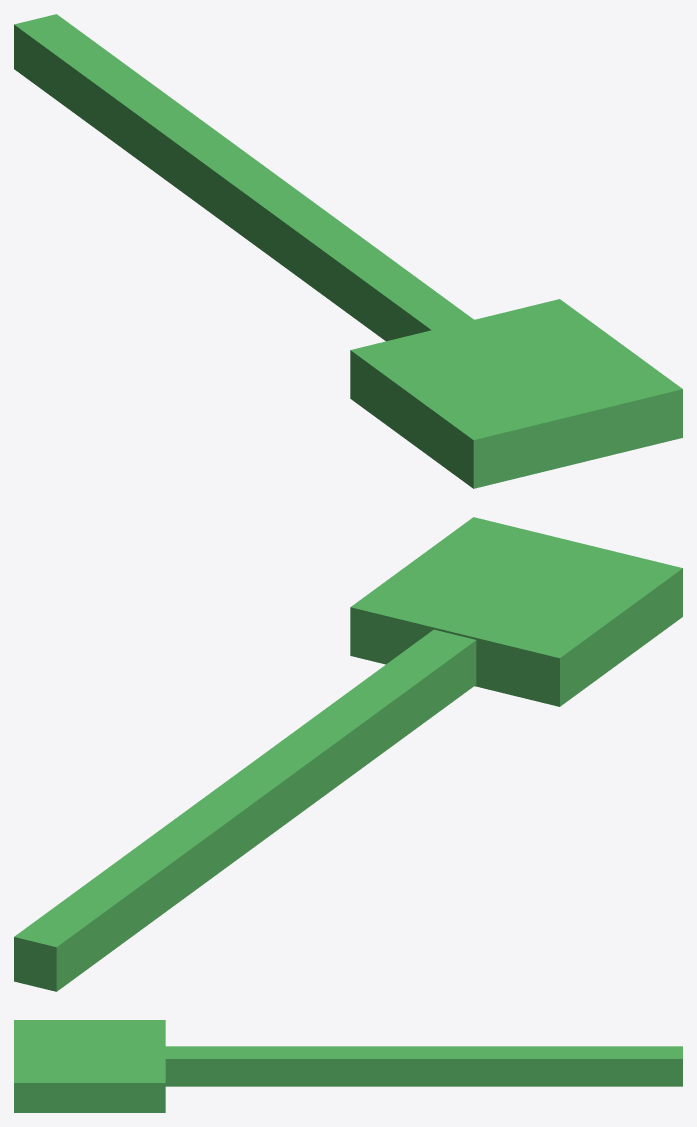
The model's file is levy_pitchfork_collision.glb.
3 renders of one model, top to bottom at view 1: azimuth 30°, elevation 25°; view 2: azimuth 150°, elevation 25°; view 3: azimuth 270°, elevation 25°, orthographic. The views are drawn at different scales.
Parts seen in each view (by area): view 1: levy_pitchfork-col-head, levy_pitchfork-col-shaft; view 2: levy_pitchfork-col-head, levy_pitchfork-col-shaft; view 3: levy_pitchfork-col-shaft, levy_pitchfork-col-head.
Boxes of the visible parts, left/top/right/bottom form: levy_pitchfork-col-head: left=350, top=299, right=682, bottom=488; levy_pitchfork-col-shaft: left=14, top=14, right=473, bottom=341; levy_pitchfork-col-head: left=350, top=517, right=682, bottom=706; levy_pitchfork-col-shaft: left=14, top=629, right=476, bottom=991; levy_pitchfork-col-shaft: left=165, top=1046, right=682, bottom=1086; levy_pitchfork-col-head: left=14, top=1020, right=165, bottom=1112.
Size of the model in its own units: 0.54 by 0.12 by 2.42.
